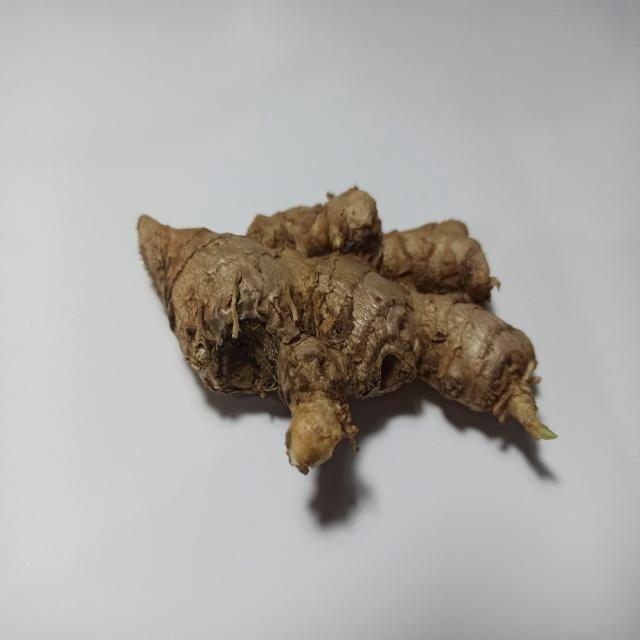ginger: (139, 194, 535, 421)
